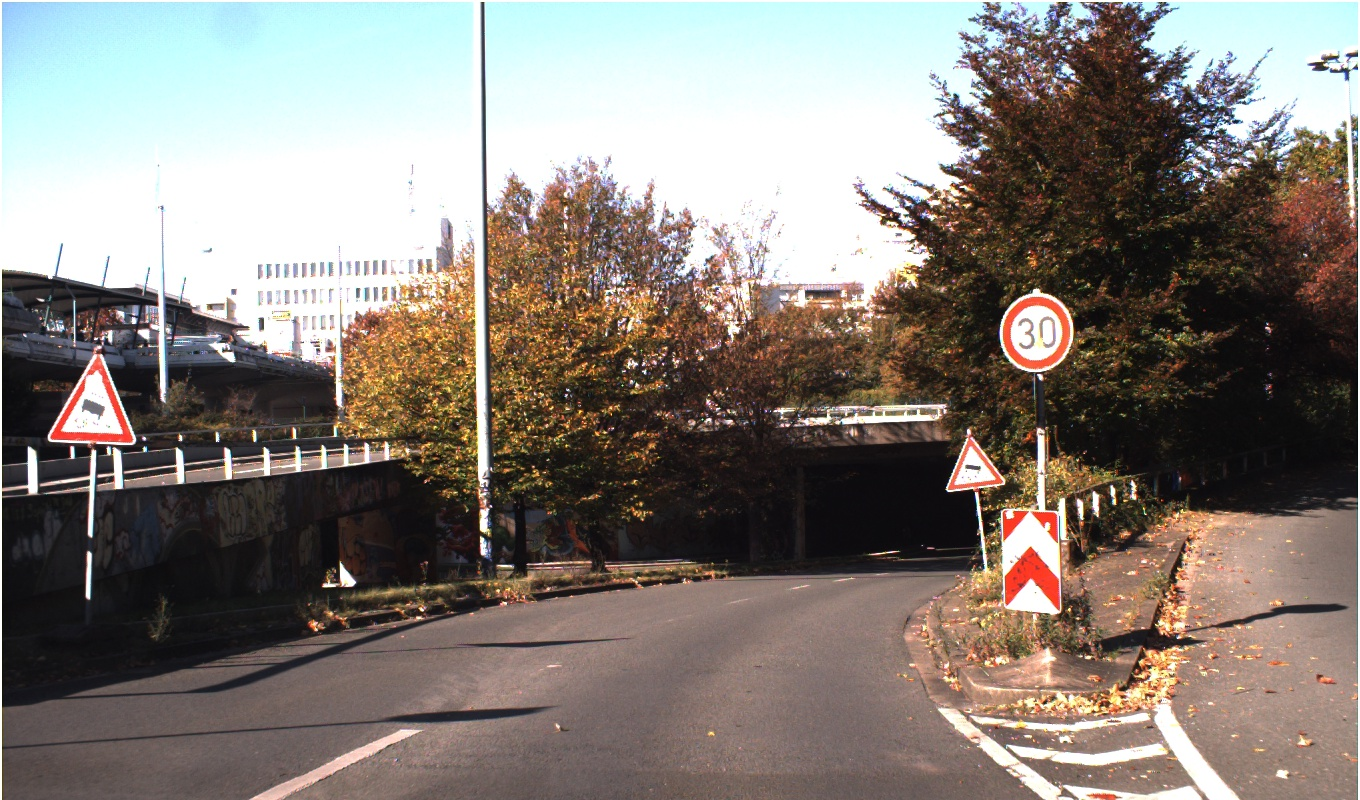pl30: (998, 292, 1074, 371)
